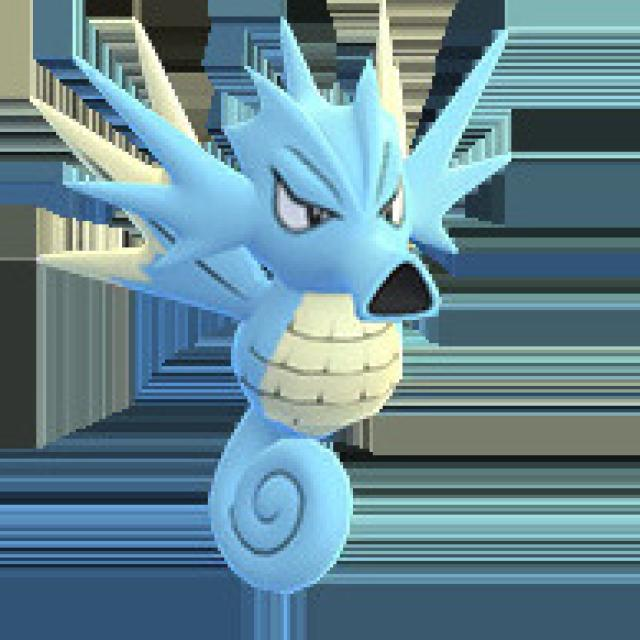Seadra: (35, 23, 527, 616)
